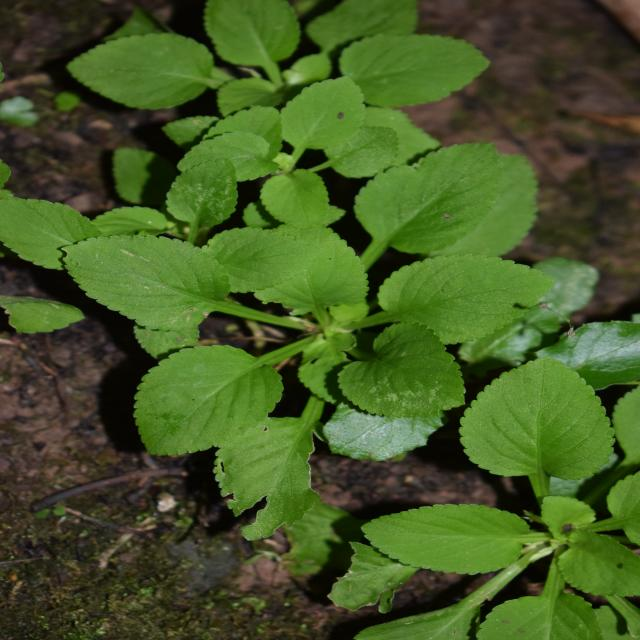Viola: (157, 101, 498, 552), (7, 134, 212, 554)
